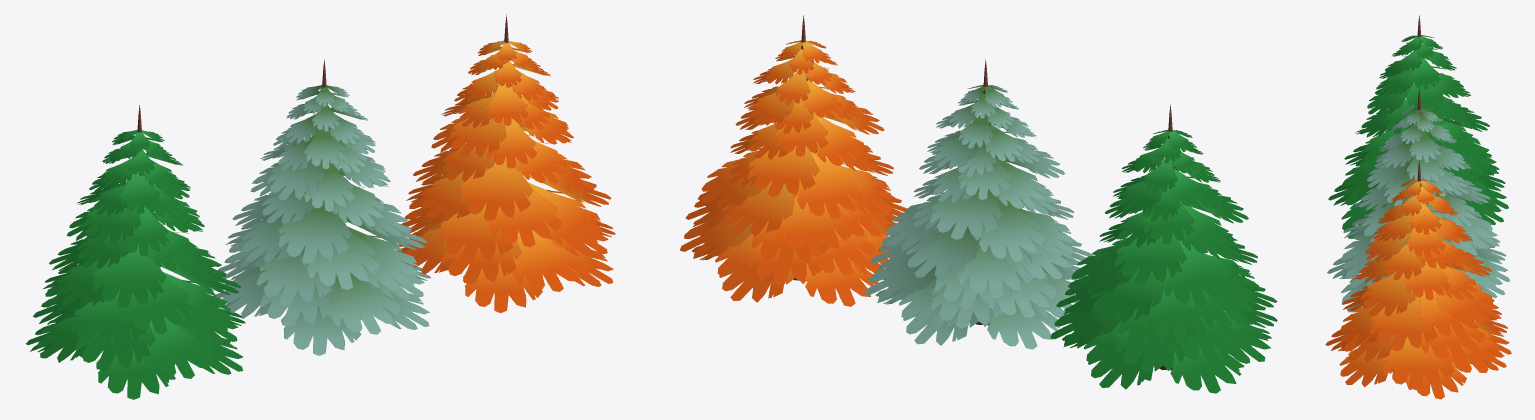
The model's file is Pine Tree.FBX.
The picture shows the model from 3 angles, left to right: view 1: azimuth 30°, elevation 25°; view 2: azimuth 150°, elevation 25°; view 3: azimuth 270°, elevation 25°; orthographic projection. The views are drawn at different scales.
Visible parts, largest first — view 1: autumnPine, winterPine, springPine; view 2: autumnPine, springPine, winterPine; view 3: autumnPine, winterPine, springPine.
Boxes of the visible parts, <box> form: autumnPine: <box>397,14,615,313</box>; winterPine: <box>213,59,430,355</box>; springPine: <box>26,105,245,399</box>; autumnPine: <box>680,15,910,306</box>; springPine: <box>1050,104,1277,393</box>; winterPine: <box>864,59,1092,349</box>; autumnPine: <box>1325,159,1511,399</box>; winterPine: <box>1327,88,1509,312</box>; springPine: <box>1328,15,1508,238</box>.
Bounding box in the file's own units: 2041 × 863 × 742.
